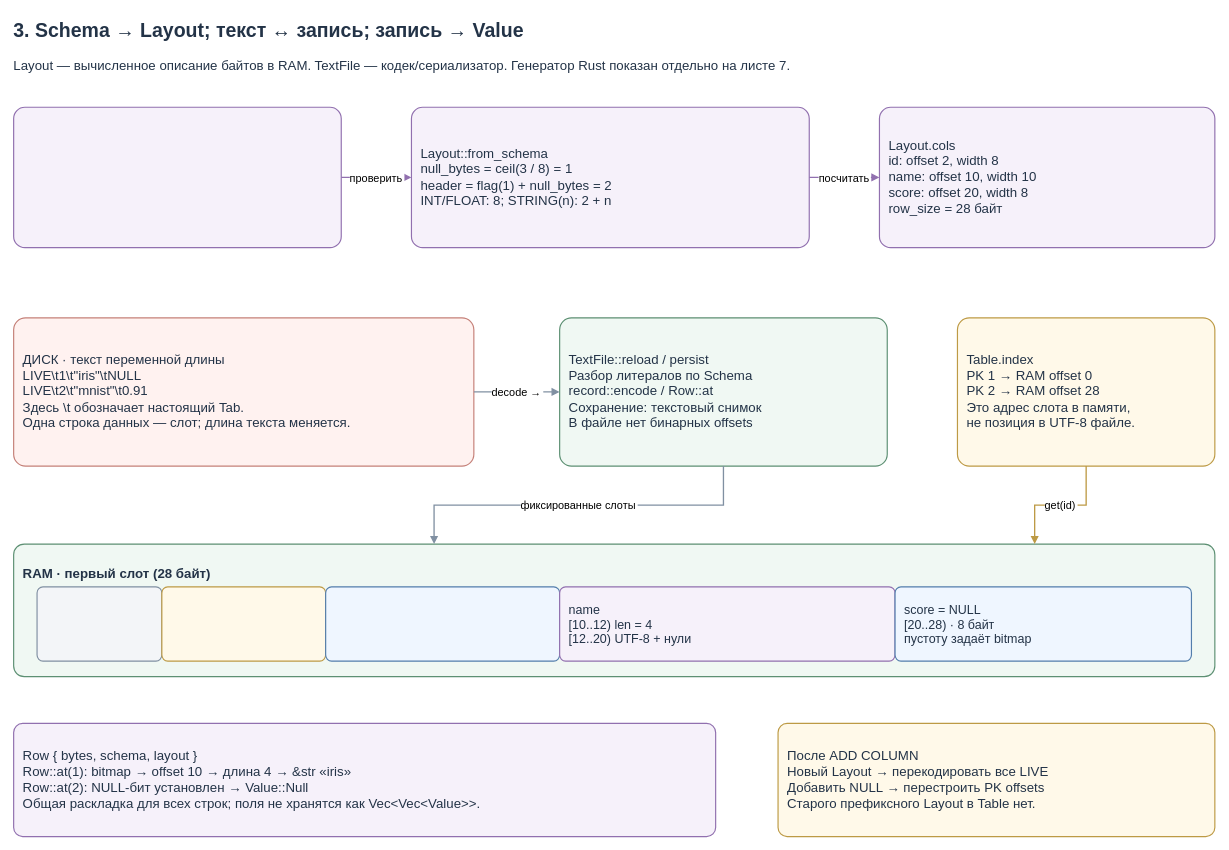
Image size: 1229x850. Some labels were removed from this diagram. Here are the shapes that lost their labels. From the top down, the centre of each, then its label:
[177,177]: Schema: 3 колонки id INT PRIMARY KEY name STRING(8) NOT NULL score FLOAT NULL
[99,623]: flag [0] · 1 байт
[243,623]: NULL bitmap [1] · 1 байт бит 2 = 1
[442,623]: id = 1 [2..10) · i64 LE
